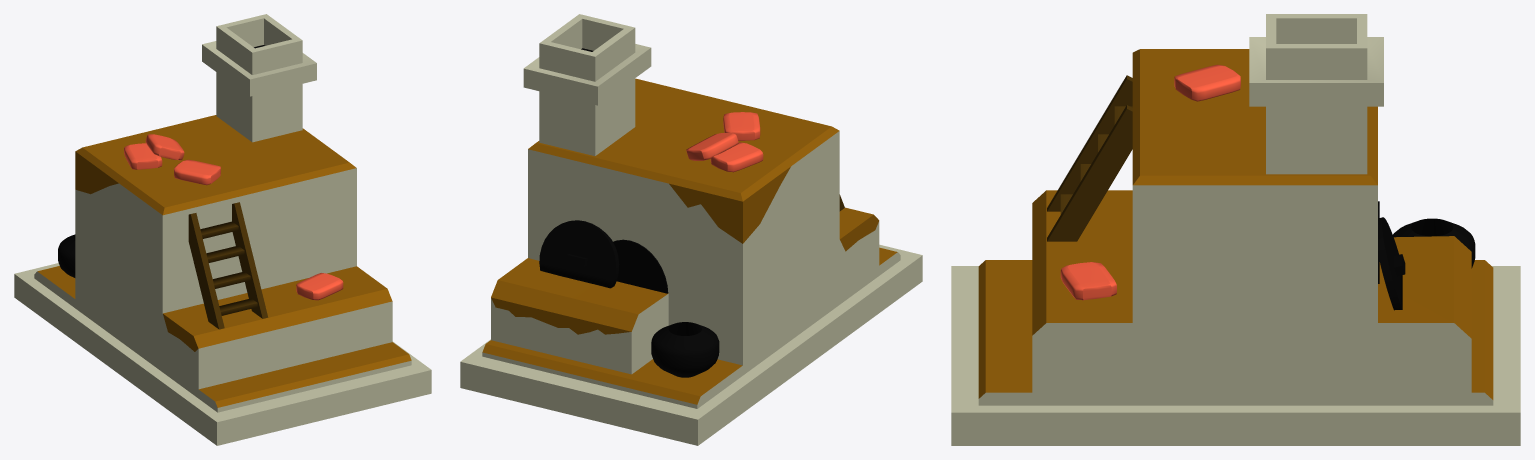
The model's file is Emelya`s car (2).fbx.
3 views of the same model, side by side, from view 1: azimuth 30°, elevation 25°; view 2: azimuth 150°, elevation 25°; view 3: azimuth 270°, elevation 25° (orthographic). The views are drawn at different scales.
Visible parts, largest first — view 1: body, ladder, pillows, bowl; view 2: body, lid, bowl, pillows, Cylinder; view 3: body, ladder, pillows, lid, bowl.
Part boxes in pixels (x1,y1,x2,y2): body: [14, 14, 431, 445]; ladder: [188, 202, 268, 329]; pillows: [124, 134, 343, 300]; bowl: [58, 234, 75, 277]; body: [460, 14, 922, 445]; lid: [539, 220, 619, 288]; bowl: [651, 322, 719, 377]; pillows: [686, 112, 763, 172]; Cylinder: [613, 239, 668, 293]; body: [951, 14, 1520, 445]; ladder: [1047, 75, 1132, 241]; pillows: [1060, 64, 1240, 300]; lid: [1378, 217, 1405, 310]; bowl: [1393, 218, 1475, 268].
Bounding box in the file's own units: 240 × 294 × 392.
